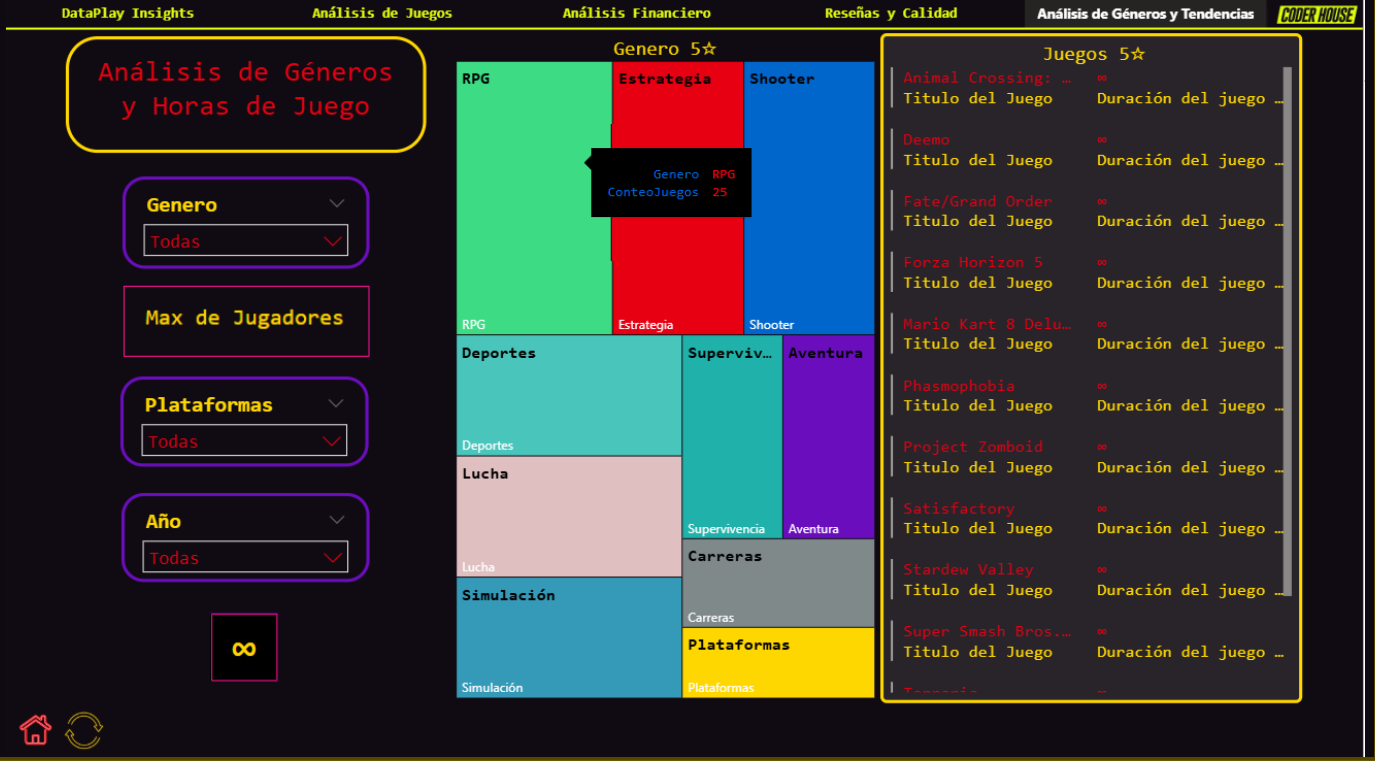

The dashboard page shown, as its layout file describes it:
{"tool":"powerbi","page":{"name":"Análisis de Géneros y Tendencias","canvas":[1280,720],"ordinal":4},"visuals":[{"type":"textbox","box":[56.3,38.6,339.6,109.7],"z":1000},{"type":"image","box":[0,667.7,56.7,52.3],"z":2000},{"type":"image","box":[1192.2,0,87.8,36.4],"z":3000},{"type":"multiRowCard","title":"Juegos 5☆","fields":{"Values":["Tabla Actualizada Normalizada.Titulo del Juego","Tabla Actualizada Normalizada.Duración del juego (hs)"]},"box":[824.5,36,397.9,631.9],"z":4000},{"type":"image","box":[188,576.4,74.5,76.3],"z":6000},{"type":"image","box":[50.5,667.7,46.1,52.3],"z":7000},{"type":"slicer","fields":{"Values":["Tabla Complementaria Reviews.Genero"]},"box":[109.5,171,233.1,87.3],"z":8000},{"type":"slicer","fields":{"Values":["Tabla Plataformas.Plataforma de Juego"]},"box":[108.2,360,234.1,85.1],"z":9000},{"type":"slicer","fields":{"Values":["Tabla Calendario.Año"]},"box":[109.1,470,234.1,84.2],"z":10000},{"type":"pageNavigator","box":[0,0,1192.2,33],"z":11000},{"type":"shape","box":[0,11.9,1279.7,40],"z":12000},{"type":"treemap","title":"Max de Jugadores","fields":{"Values":["Sum(2- Tabla Calidad.Pico Histórico de Jugadores)"],"Group":["1- Tabla DataPlay Insights Normalizada.Titulo del Juego"]},"box":[422.3,37.9,403.4,632],"z":13000},{"type":"image","box":[110.5,274.3,232.4,67.3],"z":14000}]}

Visuals, with their boxes in screenshot pixels (x1, y1, x2, y2), scaled from the page's 1280x720 canvas onto the 1375x761 screenshot:
textbox: locate(60, 41, 425, 157)
image: locate(0, 706, 61, 760)
image: locate(1281, 0, 1374, 38)
"Juegos 5☆" multiRowCard: locate(886, 38, 1313, 706)
image: locate(202, 609, 282, 690)
image: locate(54, 706, 104, 760)
slicer - Tabla Complementaria Reviews.Genero: locate(118, 181, 368, 273)
slicer - Tabla Plataformas.Plataforma de Juego: locate(116, 380, 368, 470)
slicer - Tabla Calendario.Año: locate(117, 497, 369, 586)
pageNavigator: locate(0, 0, 1281, 35)
shape: locate(0, 13, 1374, 55)
"Max de Jugadores" treemap: locate(454, 40, 887, 708)
image: locate(119, 290, 368, 361)
